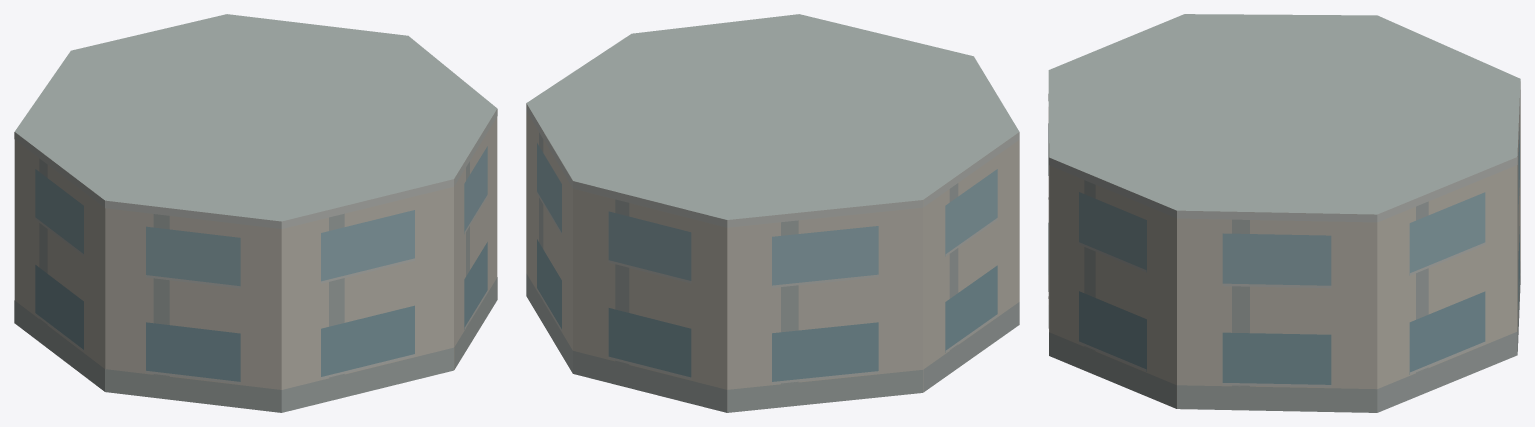
File: survey-upis-32893941.glb
3 views of the same model, side by side, from view 1: azimuth 30°, elevation 25°; view 2: azimuth 150°, elevation 25°; view 3: azimuth 270°, elevation 25° (orthographic). The views are drawn at different scales.
Parts seen in each view (by area): view 1: survey-upis-32893941.tmp; view 2: survey-upis-32893941.tmp; view 3: survey-upis-32893941.tmp.
Boxes of the visible parts, <box> form: survey-upis-32893941.tmp: <box>14,14,497,412</box>; survey-upis-32893941.tmp: <box>526,14,1019,412</box>; survey-upis-32893941.tmp: <box>1048,14,1520,412</box>.
Size of the model in its own units: 13.23 by 6.1 by 13.17.
